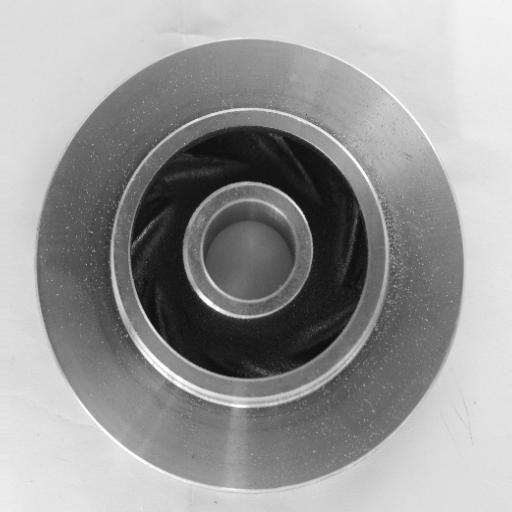polished_casting: (33, 36, 465, 493)
